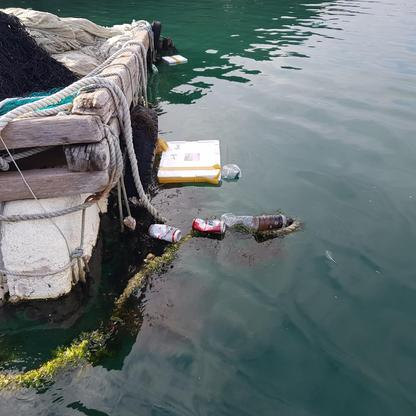can: (147, 223, 181, 244), (192, 216, 226, 237)
plastic bottle: (226, 213, 293, 230)
